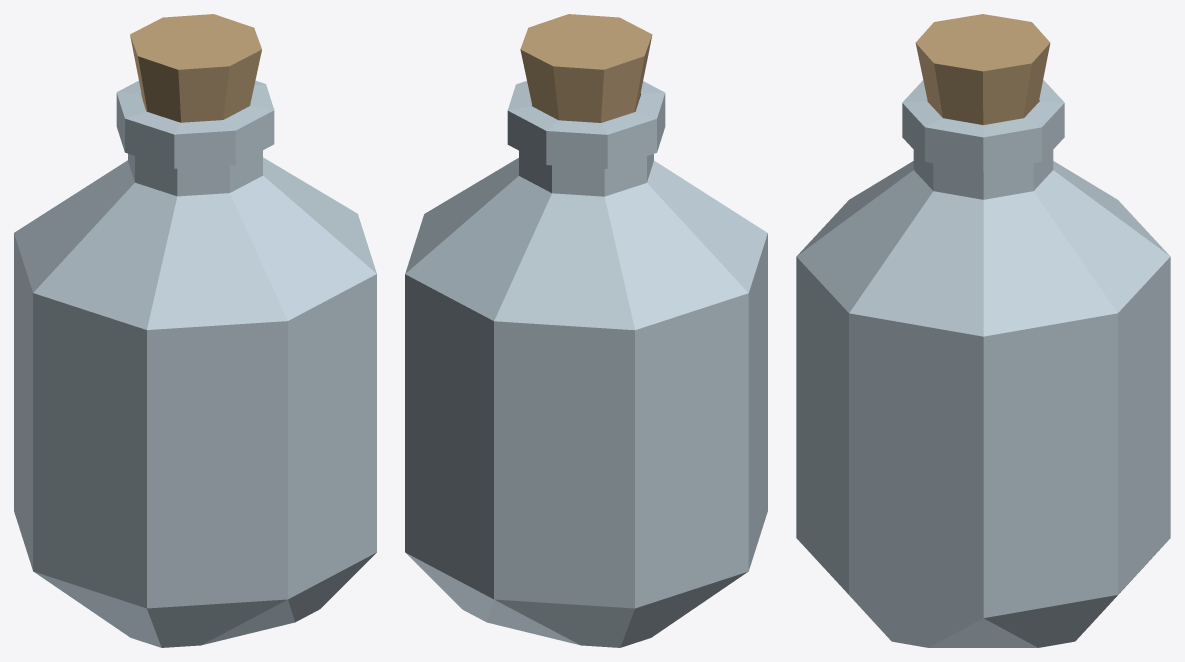
The model's file is healing_potion.glb.
3 renders of one model, left to right at view 1: azimuth 30°, elevation 25°; view 2: azimuth 150°, elevation 25°; view 3: azimuth 270°, elevation 25°, orthographic.
Visible parts, largest first — view 1: Cube_0, Cube.001_3; view 2: Cube_0, Cube.001_3; view 3: Cube_0, Cube.001_3.
Part boxes in pixels (<box>): Cube_0: <box>14,80,376,647</box>; Cube.001_3: <box>130,14,261,122</box>; Cube_0: <box>405,81,767,647</box>; Cube.001_3: <box>520,14,652,122</box>; Cube_0: <box>796,79,1170,647</box>; Cube.001_3: <box>915,14,1050,124</box>.
Size of the model in its own units: 2.82 by 4.6 by 2.78.
